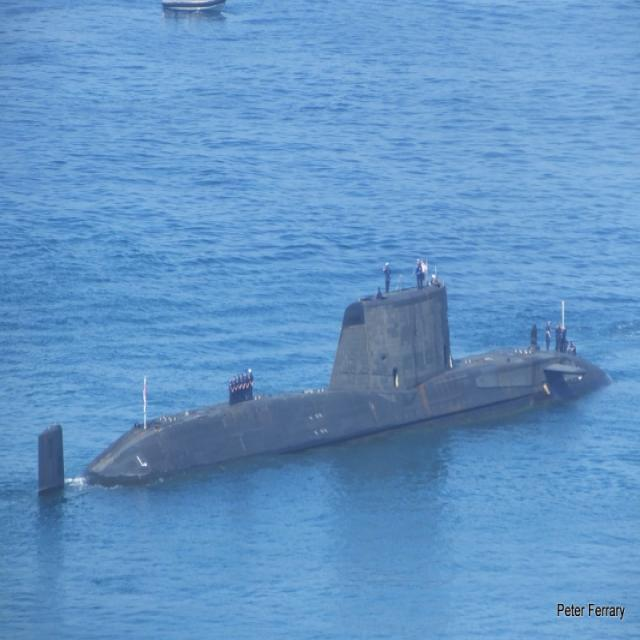submarine: (36, 270, 609, 504)
